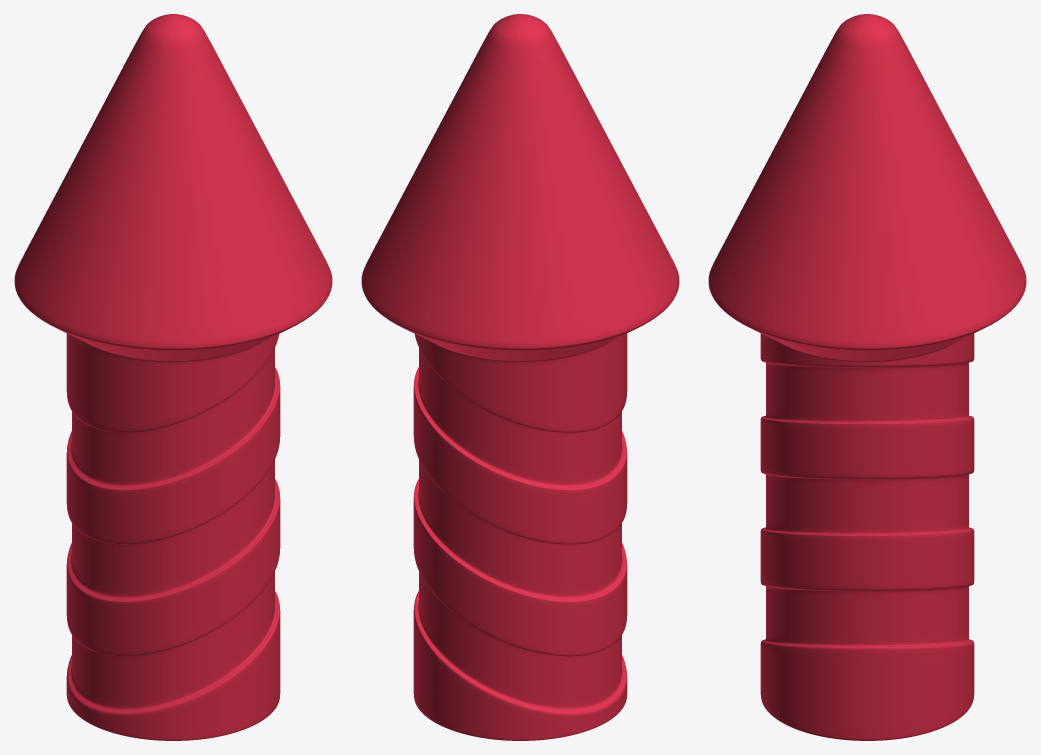
File: Rocket Firework.fbx
The picture shows the model from 3 angles, left to right: view 1: azimuth 30°, elevation 25°; view 2: azimuth 150°, elevation 25°; view 3: azimuth 270°, elevation 25°; orthographic projection.
Parts seen in each view (by area): view 1: node_id30; view 2: node_id30; view 3: node_id30.
Boxes of the visible parts, bbox=[...] form: node_id30: bbox=[14, 14, 332, 740]; node_id30: bbox=[361, 14, 679, 740]; node_id30: bbox=[708, 14, 1026, 740].
Size of the model in its own units: 0.2165 by 0.512 by 0.2165.
Materials: 1 (1 with a texture image).
